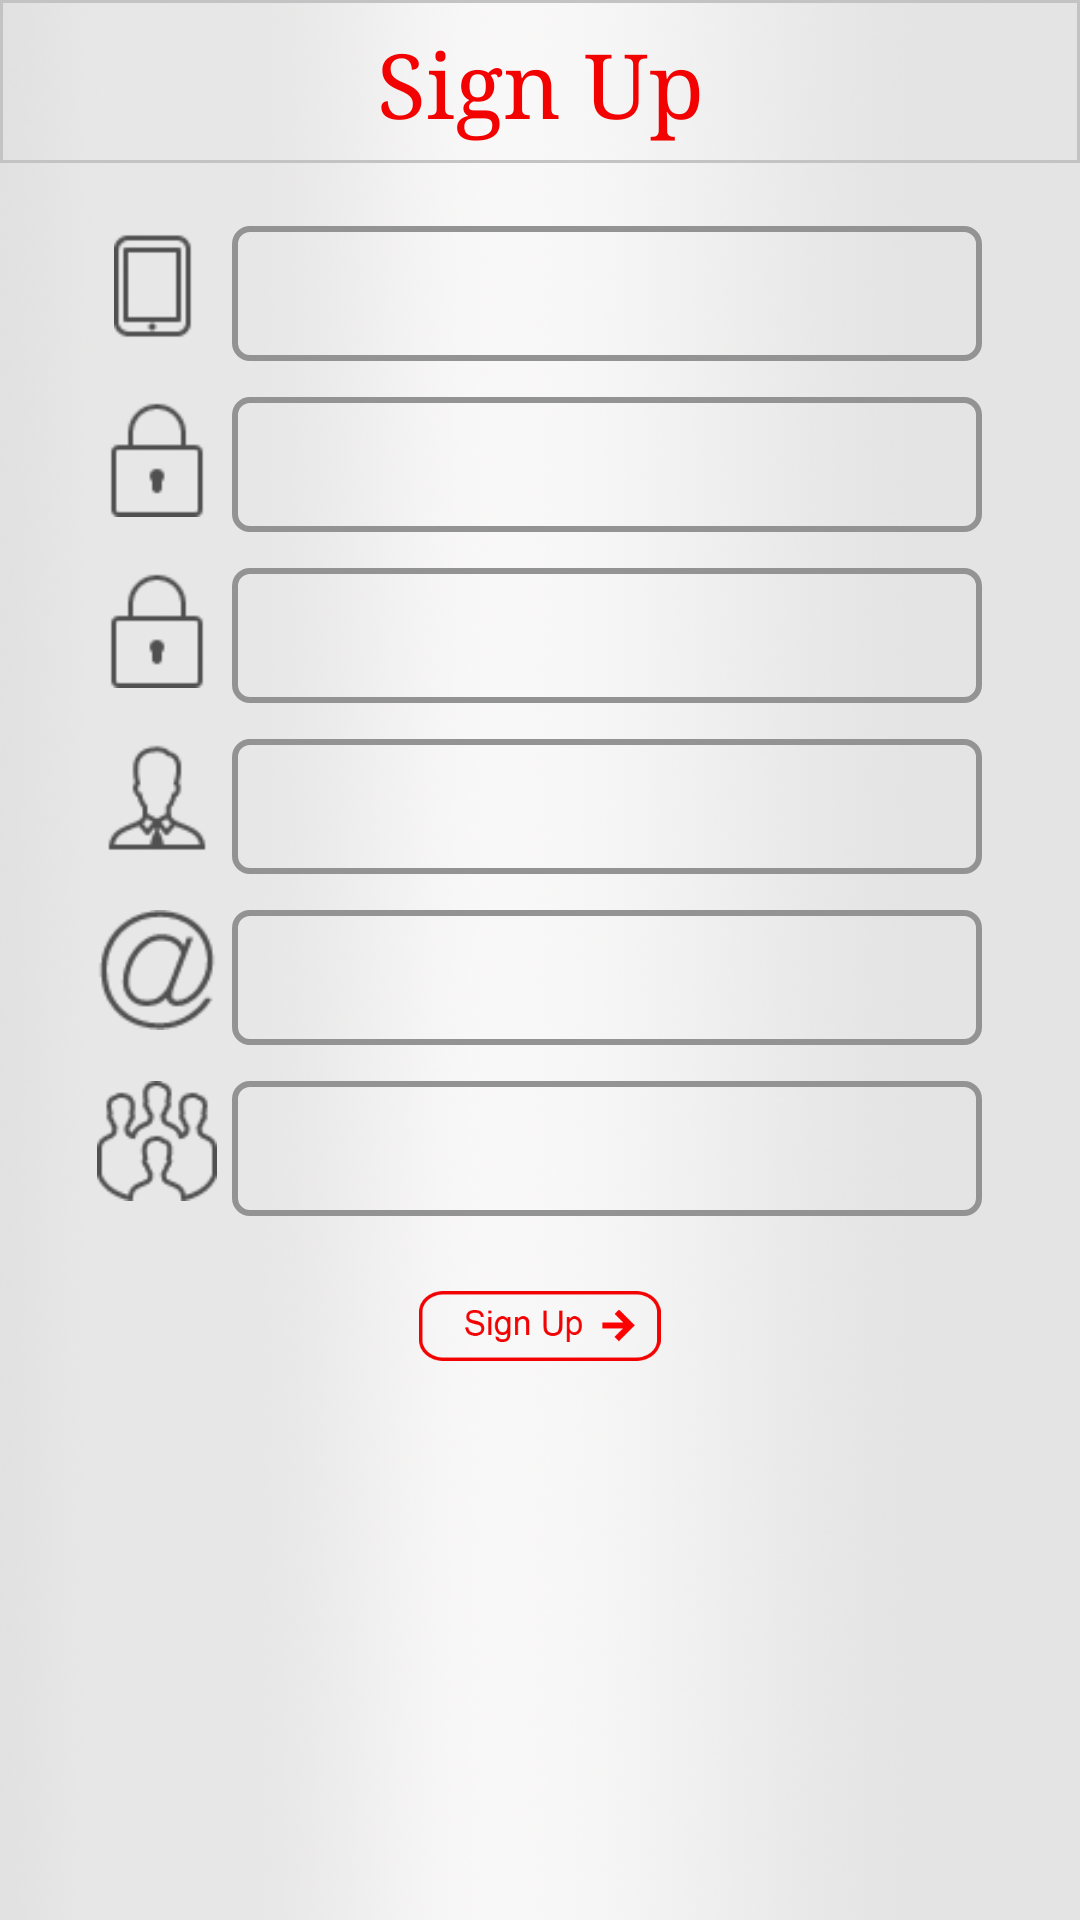

Named icons in this screenshot (1080*1920) and their bounding boxes, [left=x1, top=y1, right=x2, bottom=y2]:
email: [left=100, top=910, right=214, bottom=1030]
fullname: [left=108, top=746, right=206, bottom=850]
lock: [left=111, top=403, right=203, bottom=517], [left=111, top=574, right=203, bottom=688]
mobile: [left=114, top=235, right=191, bottom=337]
